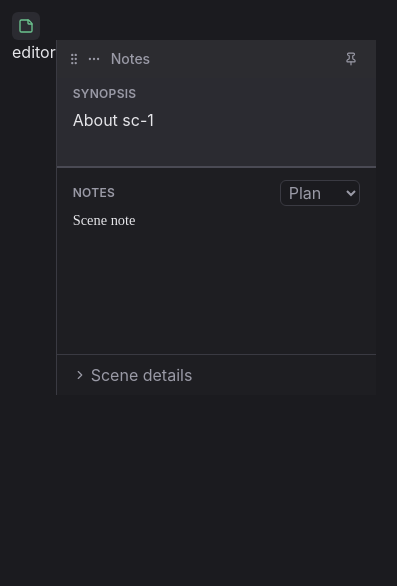
NotesPanel (F-3.7) › puts the synopsis box above the notes and keeps the scene details collapsed for a scene
The width and height of the screenshot is (397, 586).
Expected: the text box labelled "Synopsis" holds "About sc-1", [57,102,376,166]
Click the button "Scene details": (142, 375) [57,355,376,395]
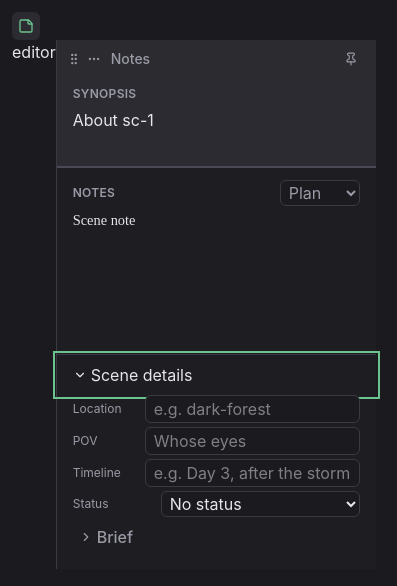
Expected: the number of text boxes labelled "Synopsis" is 1, [57,102,376,166]
Now the button "Scene details" is expanded, box [57,355,376,395]
